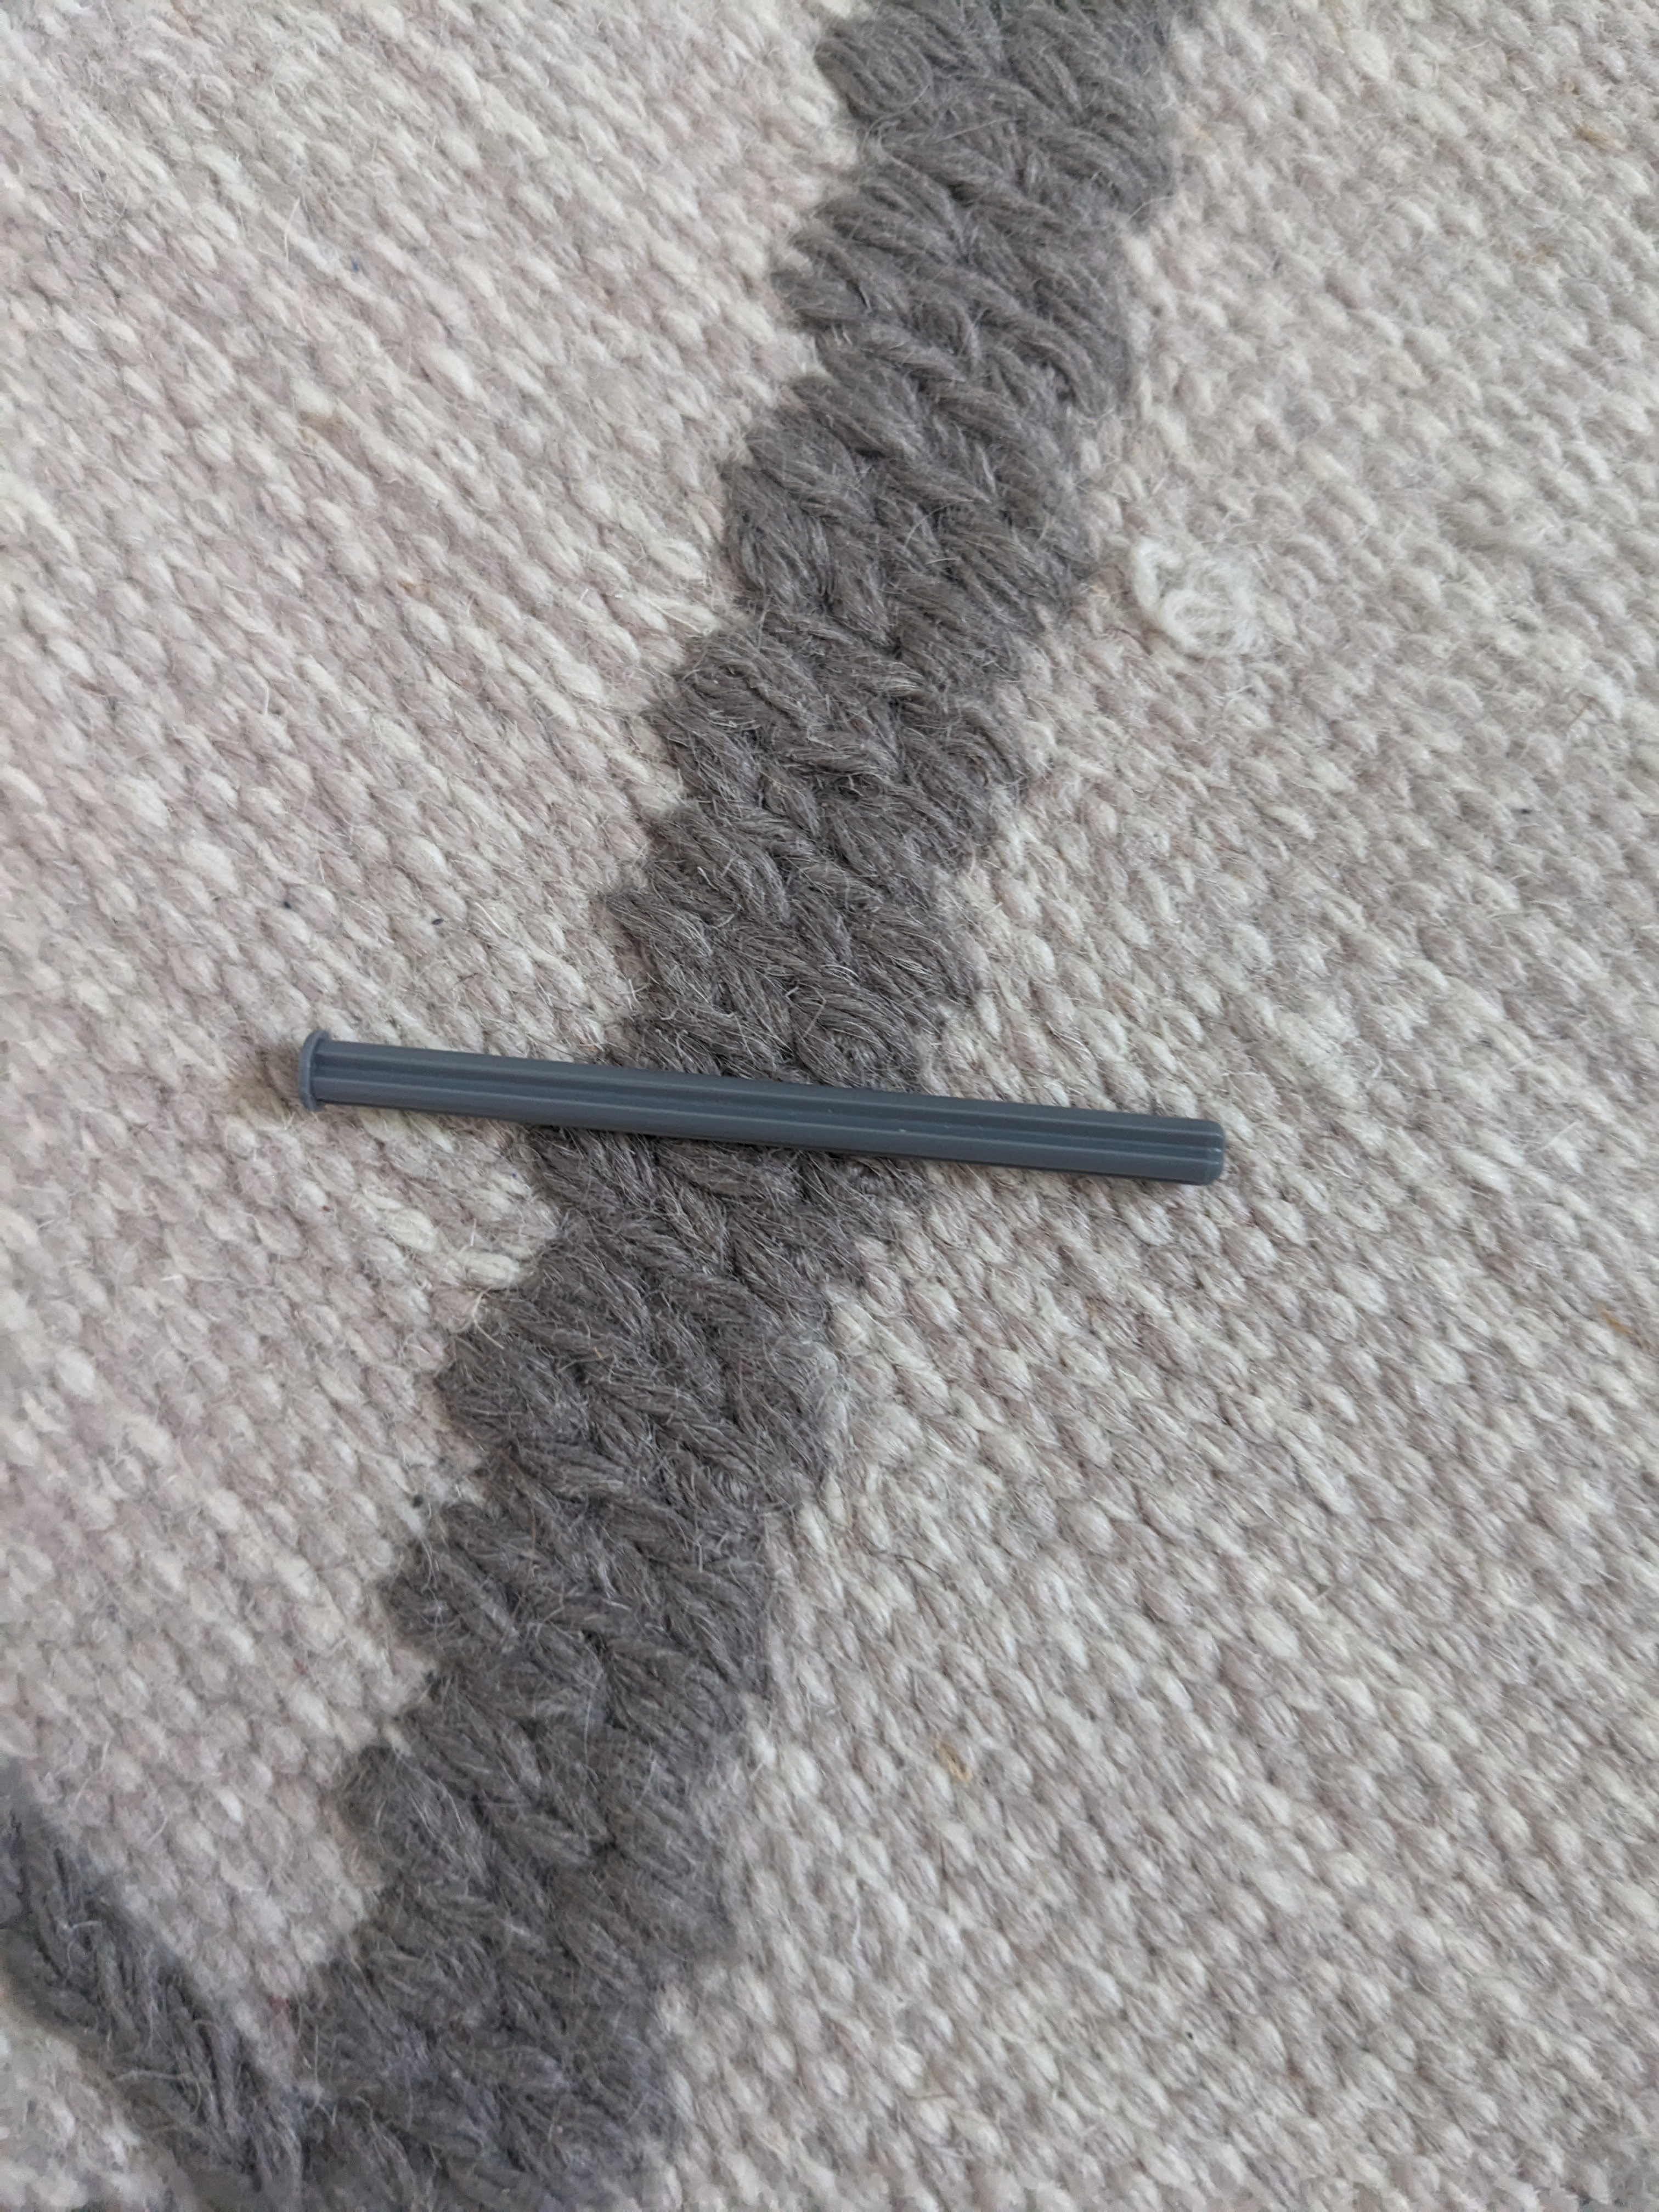Grau_lang: (279, 989, 1253, 1266)
